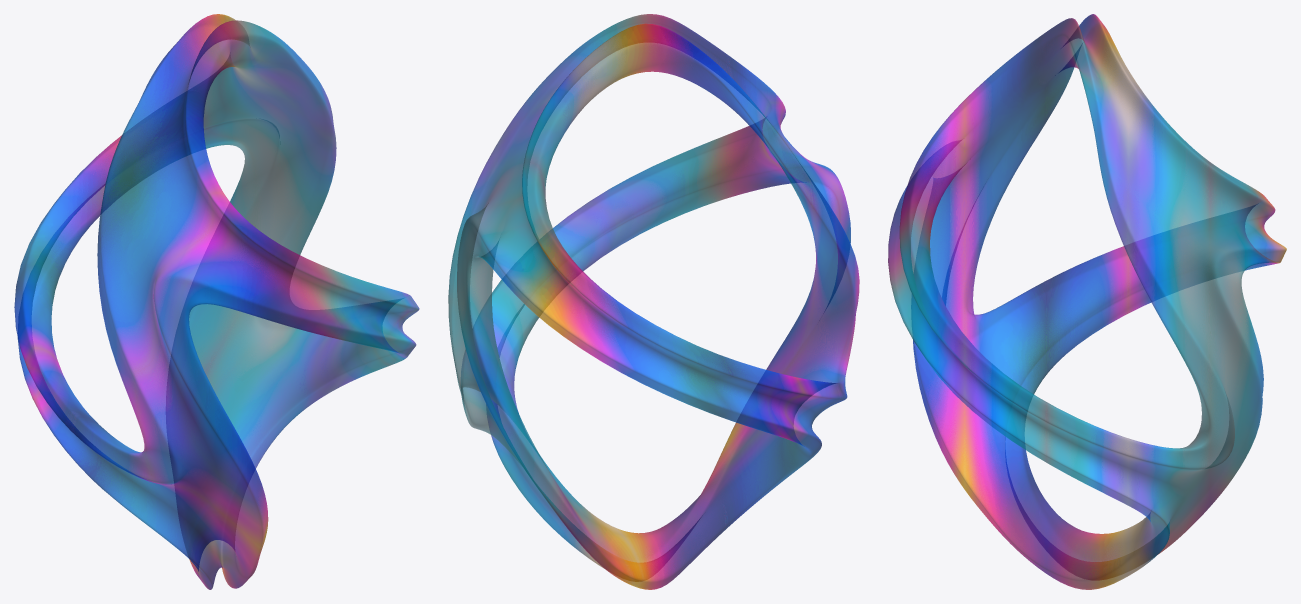
Rendered from mdl_chazzyb_nondecimated.glb.
3 views of the same model, side by side, from view 1: azimuth 30°, elevation 25°; view 2: azimuth 150°, elevation 25°; view 3: azimuth 270°, elevation 25° (orthographic).
Parts seen in each view (by area): view 1: Hedra001; view 2: Hedra001; view 3: Hedra001.
Part boxes in pixels (box(x1,y1,x2,y2)): Hedra001: box(14, 14, 419, 589); Hedra001: box(448, 14, 859, 589); Hedra001: box(888, 14, 1286, 589).
Size of the model in its own units: 1.84 by 2.88 by 1.84.
1 material, 1 textured.
